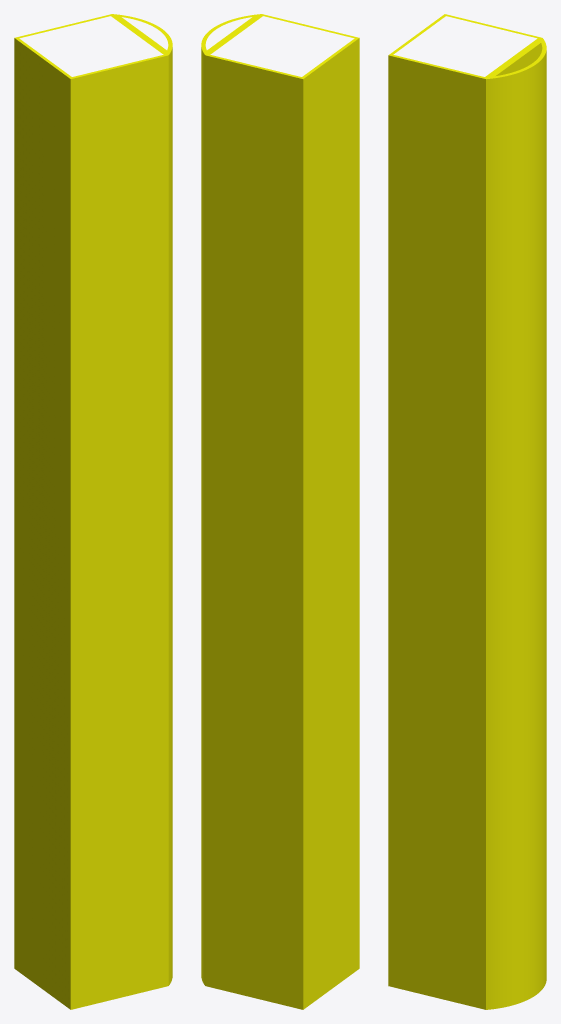
Rendered from postHalb.glb.
3 renders of one model, left to right at view 1: azimuth 30°, elevation 25°; view 2: azimuth 150°, elevation 25°; view 3: azimuth 330°, elevation 25°, orthographic.
Parts seen in each view (by area): view 1: Pfosten_mit_deckel1; view 2: Pfosten_mit_deckel1; view 3: Pfosten_mit_deckel1.
Boxes of the visible parts, x1=… form: Pfosten_mit_deckel1: x1=14, y1=14, x2=172, y2=1009; Pfosten_mit_deckel1: x1=201, y1=14, x2=359, y2=1009; Pfosten_mit_deckel1: x1=388, y1=14, x2=546, y2=1009.
Size of the model in its own units: 0.135 by 1 by 0.11.
1 material, 1 textured.
